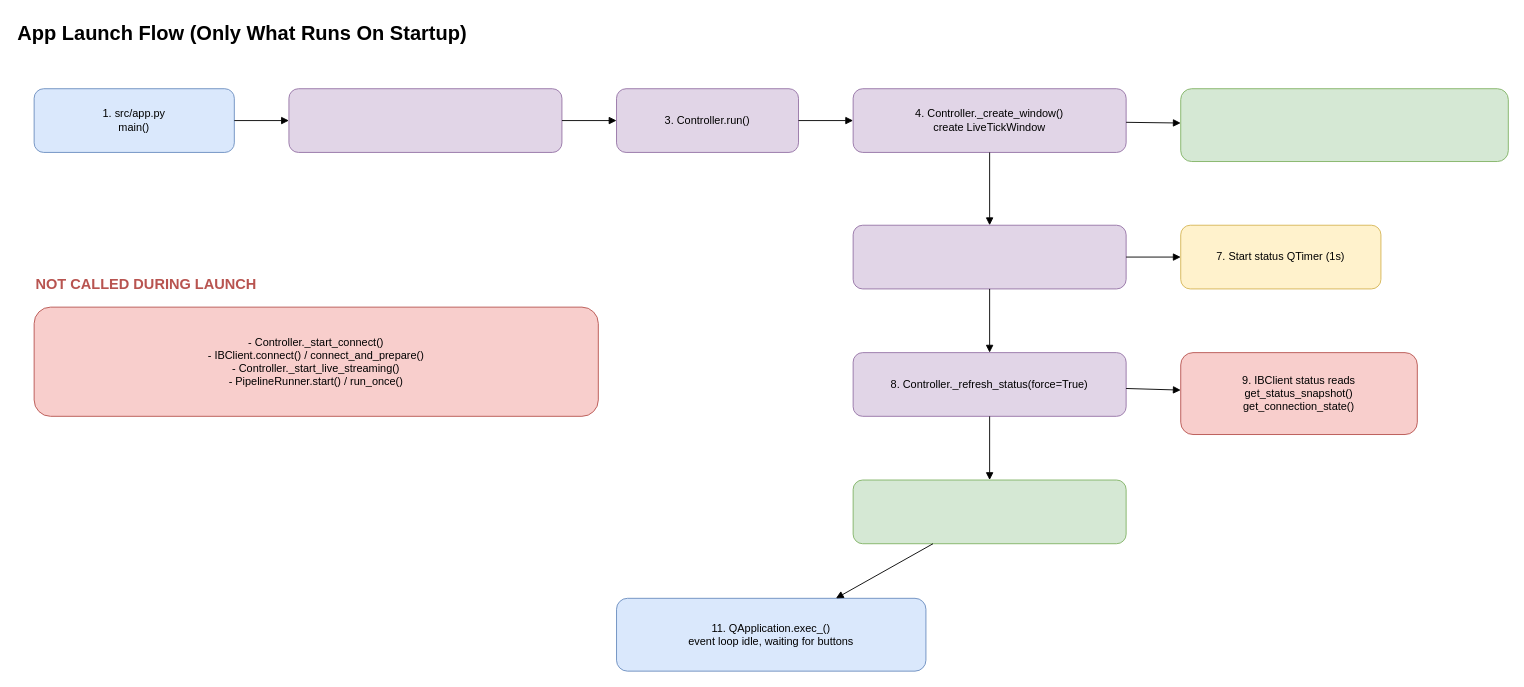
Image size: 1524x687. Some labels were removed from this diagram. Here are the shapes that lost their labels. From the top down, the box of each, then its label:
(288, 88, 562, 152): 2. Controller.__init__() create QApplication, IB, IBClient
(1180, 88, 1508, 162): 5. LiveTickWindow.__init__() build panels/docks set initial disconnected status
(852, 224, 1126, 289): 6. Controller._setup_services() create PipelineRunner (instance only)
(852, 479, 1126, 544): 10. LiveTickWindow.update_status_view(...)
